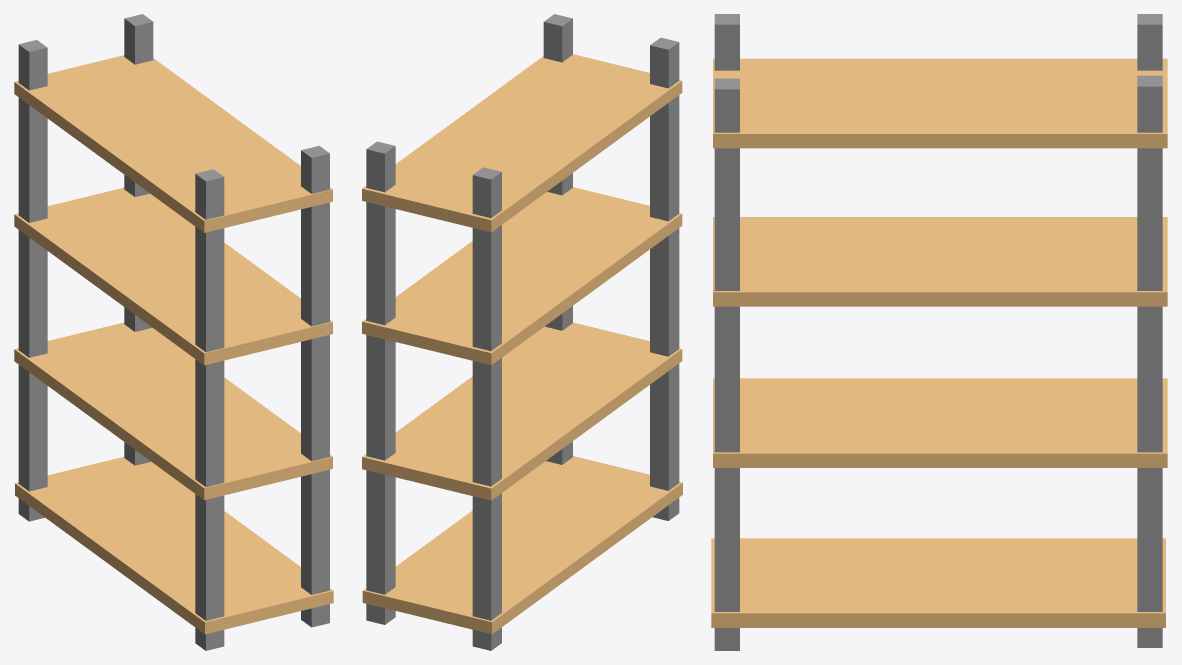
File: Shelf.glb
3 views of the same model, side by side, from view 1: azimuth 30°, elevation 25°; view 2: azimuth 150°, elevation 25°; view 3: azimuth 270°, elevation 25° (orthographic). The views are drawn at different scales.
Parts seen in each view (by area): view 1: Shelf; view 2: Shelf; view 3: Shelf.
Part boxes in pixels (<box>): Shelf: <box>14,14,333,650</box>; Shelf: <box>362,14,682,650</box>; Shelf: <box>711,14,1167,650</box>.
Size of the model in its own units: 0.56 by 1.96 by 1.44.
